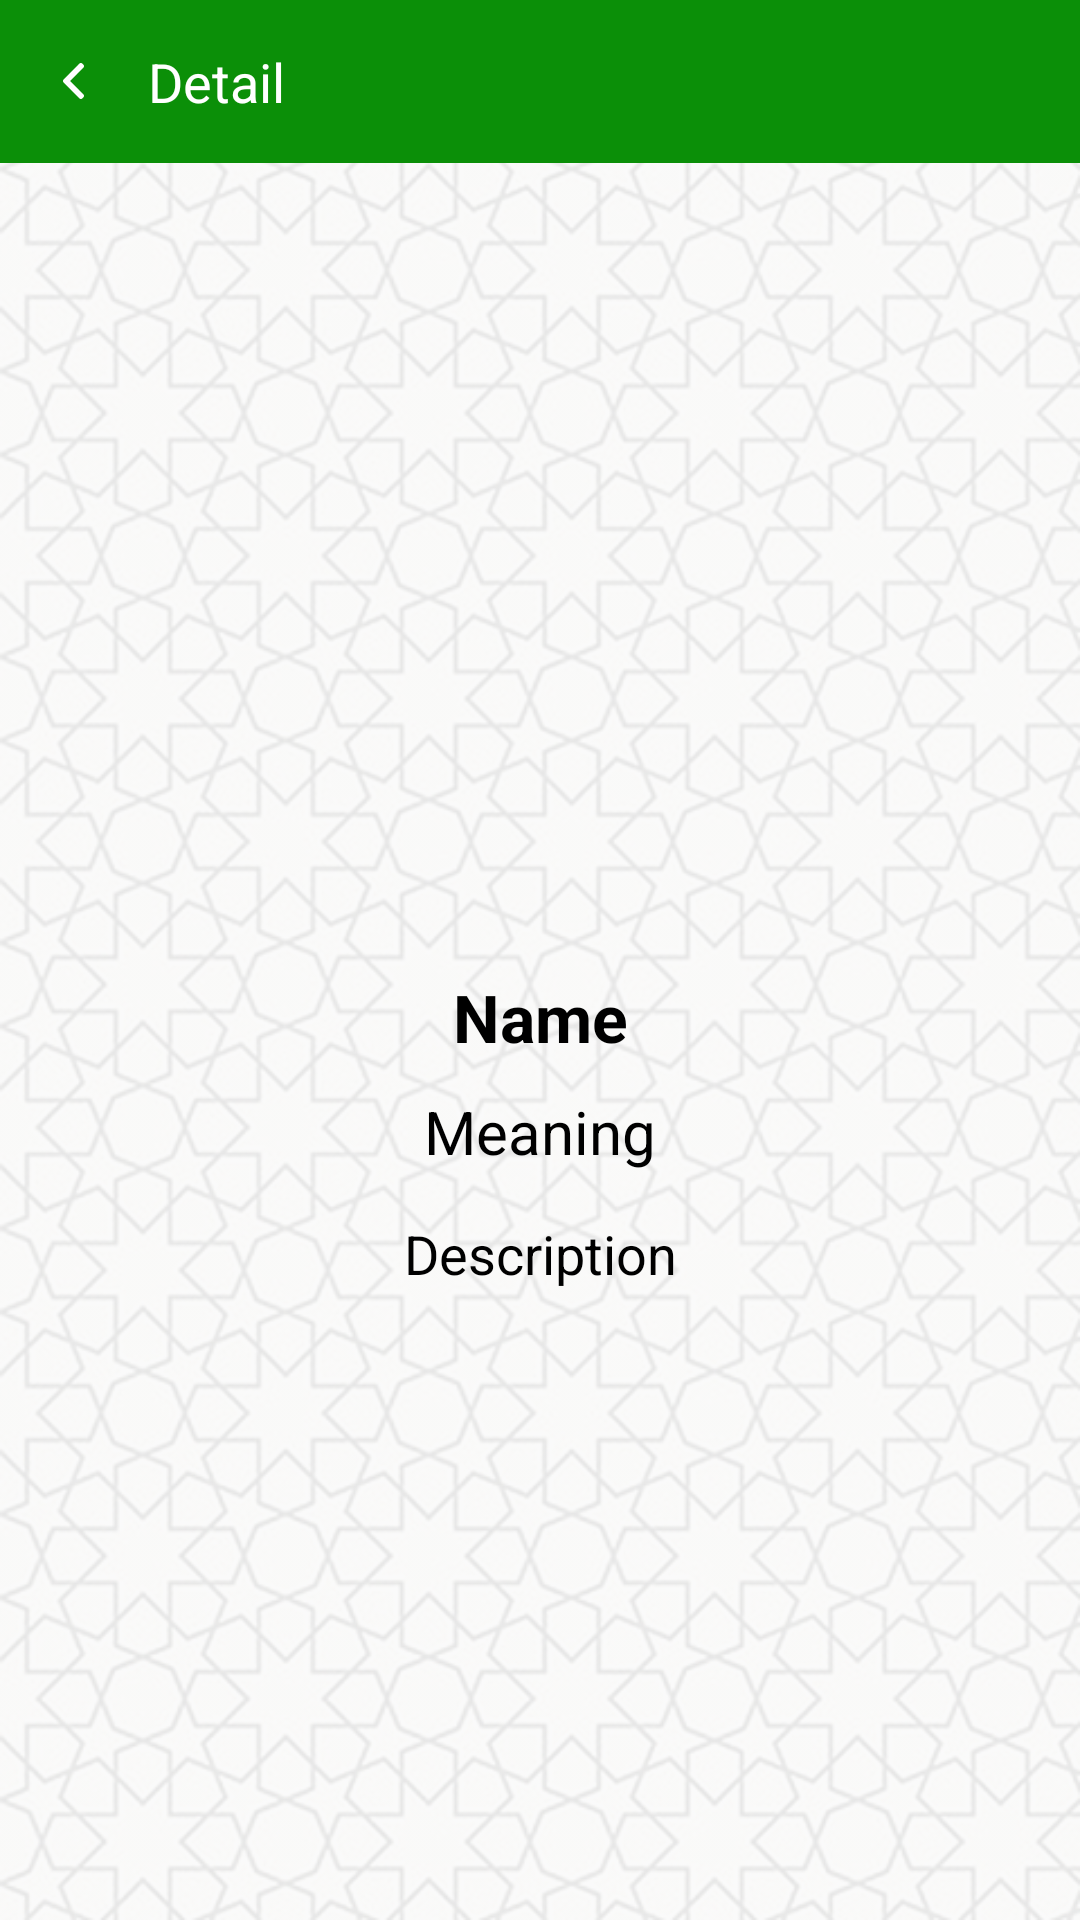

Icon bounding boxes for this 1080*1920 phone screenshot, format BBox(x1, y1, x2, y2):
back: BBox(63, 63, 84, 99)
